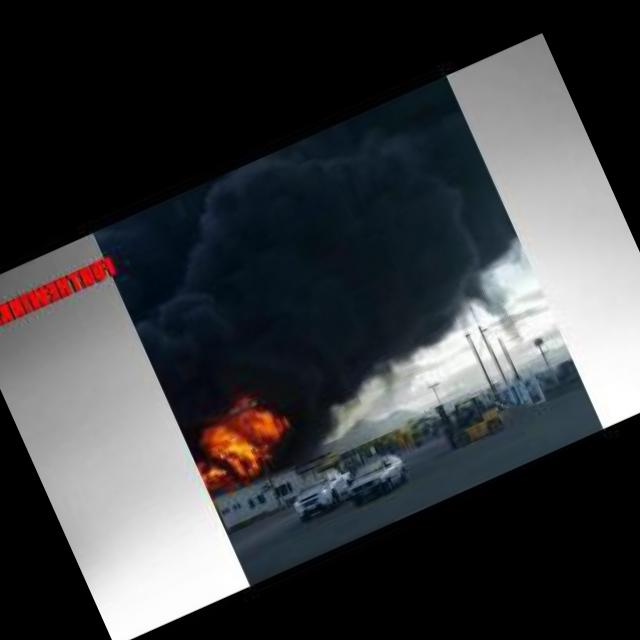fire: (178, 377, 306, 497)
